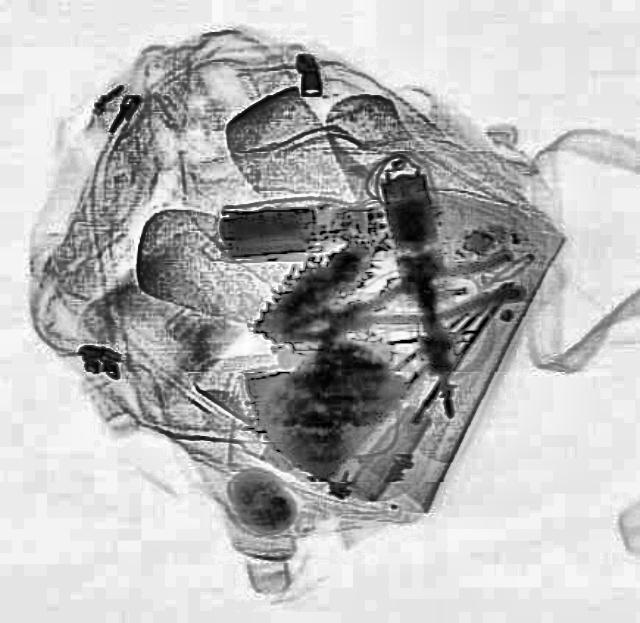Pliers: (280, 249, 522, 353)
